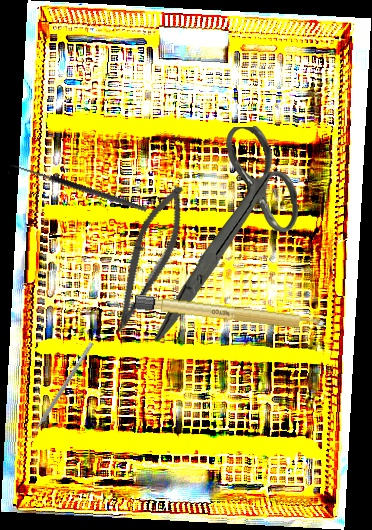Hook Surgical: (7, 162, 148, 219)
Iris Scissors: (150, 125, 300, 341)
Micro Scissor: (103, 177, 196, 344)
Scalpel Handle: (133, 294, 329, 333)
Spatula Surgical: (25, 339, 94, 442)
